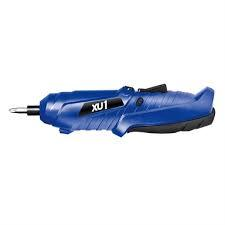screwdriver: (8, 105, 26, 113)
